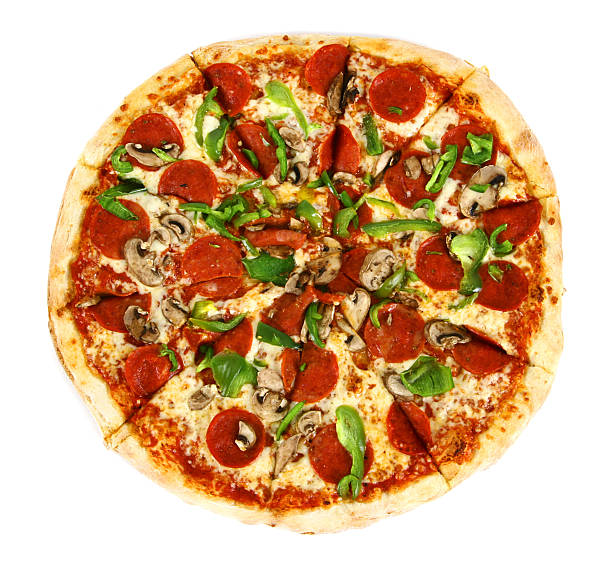Pizza: (56, 30, 583, 536)
